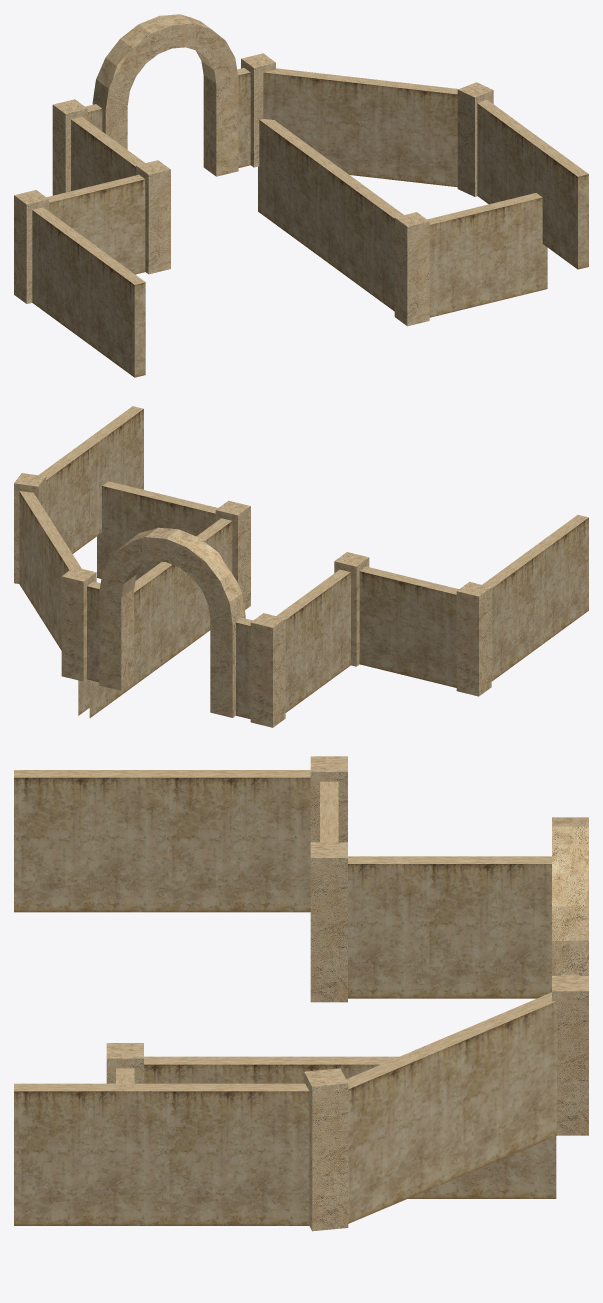
Rendered from poi_tato_corral_half_32x32_s01_l0.fbx.
3 views of the same model, one above another, from view 1: azimuth 30°, elevation 25°; view 2: azimuth 150°, elevation 25°; view 3: azimuth 270°, elevation 25° (orthographic). The views are drawn at different scales.
Parts seen in each view (by area): view 1: mesh_node; view 2: mesh_node; view 3: mesh_node.
Part boxes in pixels (left/top/right/bottom): mesh_node: left=14, top=14, right=588, bottom=377; mesh_node: left=14, top=406, right=588, bottom=727; mesh_node: left=14, top=756, right=588, bottom=1231.
Bounding box in the file's own units: 21.1 × 9 × 15.5.
